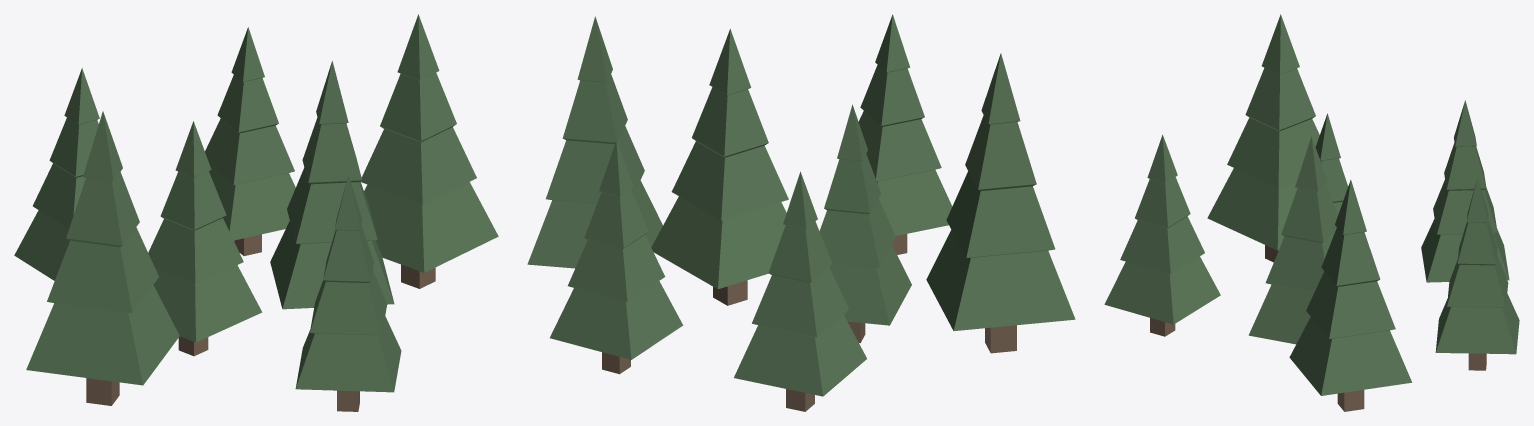
Rendered from Pines_01.fbx.
The picture shows the model from 3 angles, left to right: view 1: azimuth 30°, elevation 25°; view 2: azimuth 150°, elevation 25°; view 3: azimuth 270°, elevation 25°; orthographic projection. The views are drawn at different scales.
Parts seen in each view (by area): view 1: Pine_Group_01_LOD0; view 2: Pine_Group_01_LOD0; view 3: Pine_Group_01_LOD0.
Boxes of the visible parts, box(x1,y1,x2,y2) form: Pine_Group_01_LOD0: box(14, 14, 498, 411); Pine_Group_01_LOD0: box(527, 14, 1075, 411); Pine_Group_01_LOD0: box(1104, 14, 1519, 411).
Size of what is drawn, in the model's own units: 772 by 430 by 661.
1 material, 1 textured.
